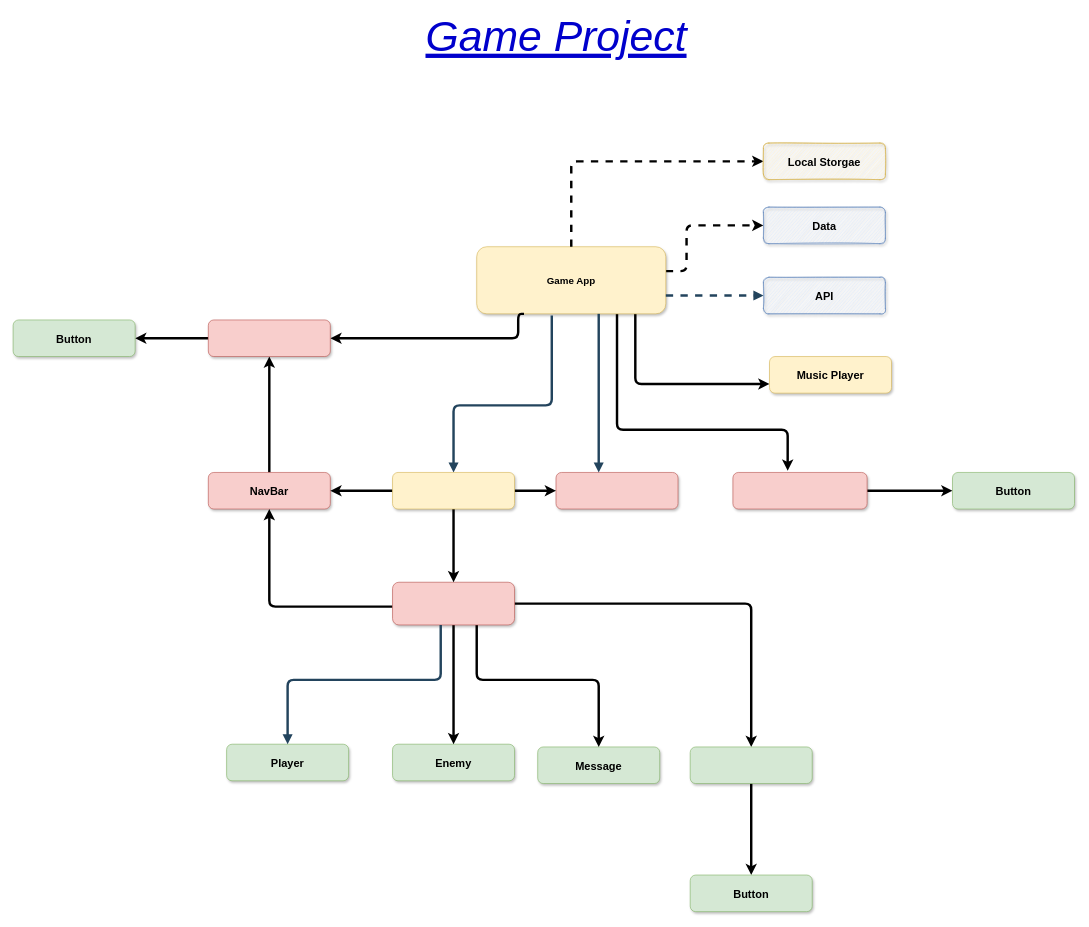
This 1089x927 diagram has some shape labels left out. Here are the shapes that lost their labels. From the top down, the centre of each, then its label:
At point (269, 339): "Settings Page".
At point (453, 491): "Game Board".
At point (617, 491): "Map".
At point (800, 491): "HomePage".
At point (453, 604): "Room".
At point (751, 766): "Action Menu".
